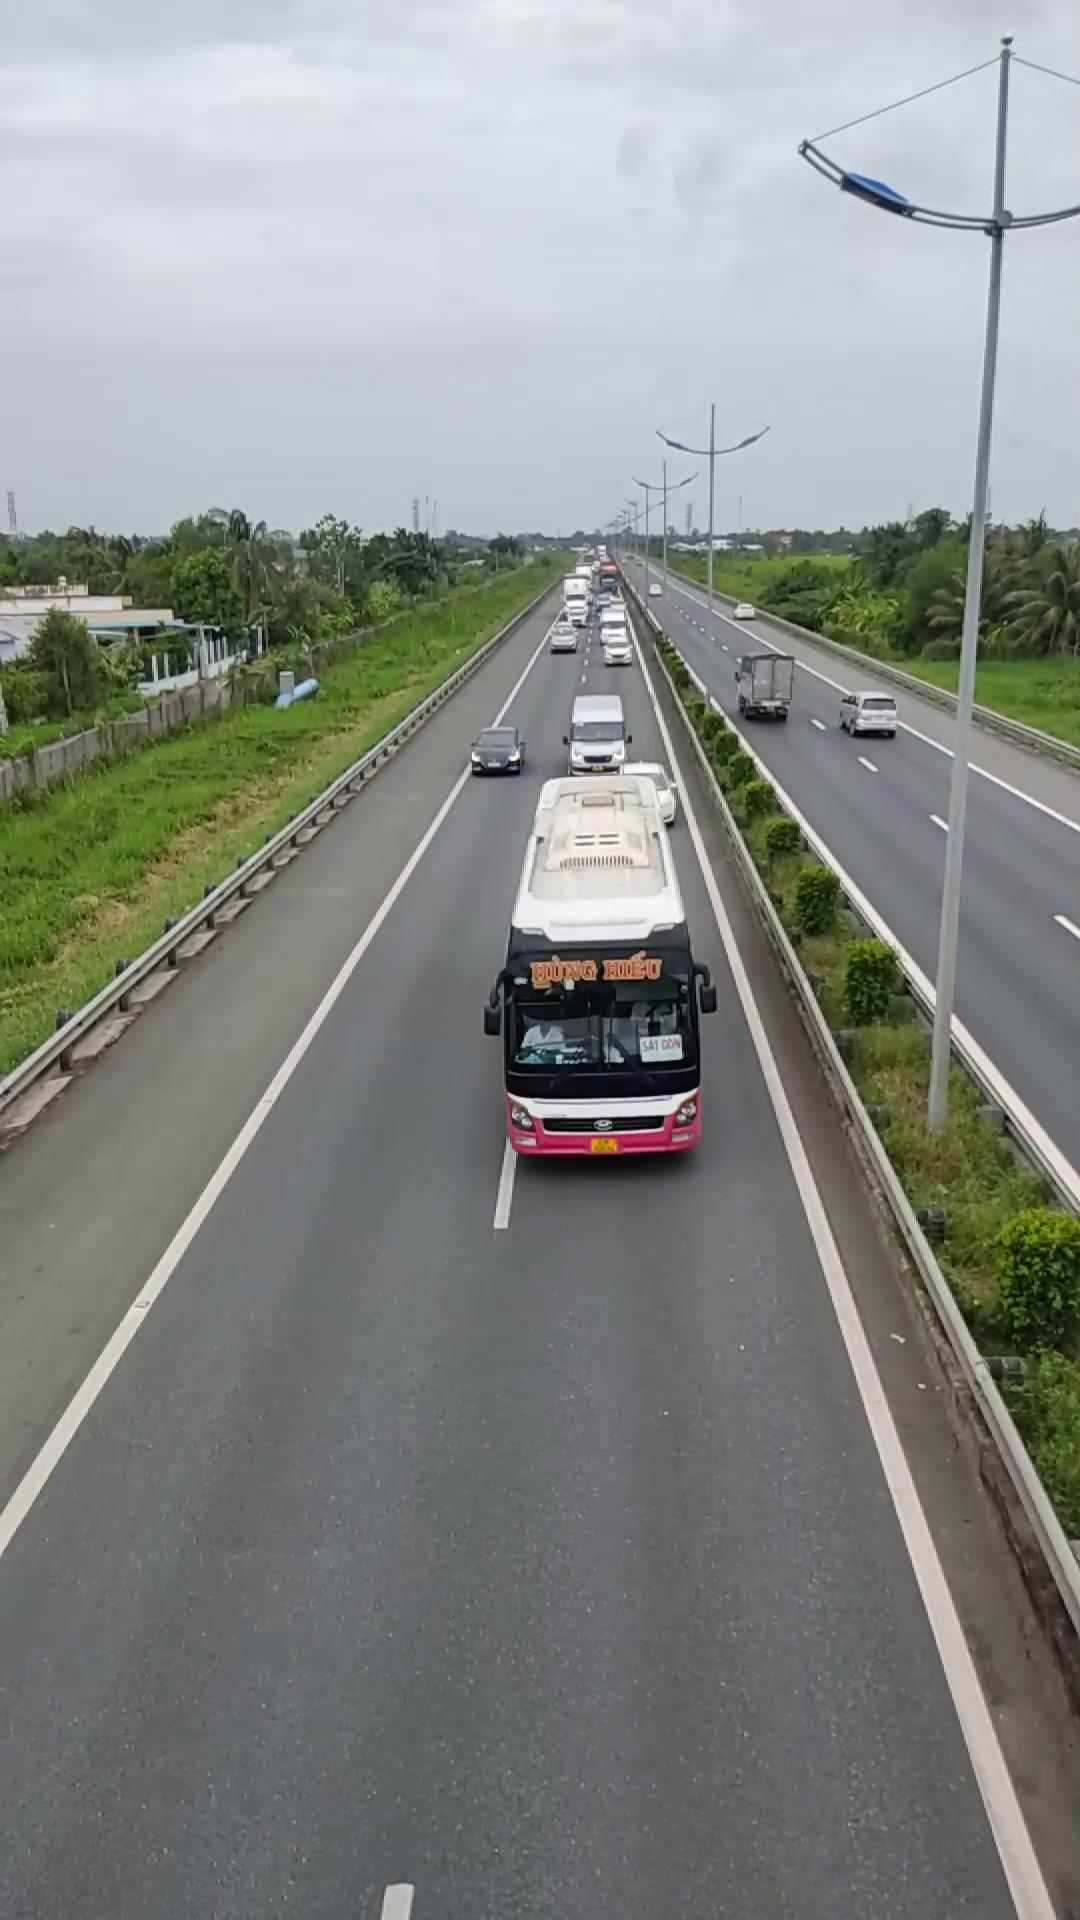bus: (483, 766, 709, 1162)
truck: (733, 650, 793, 719)
